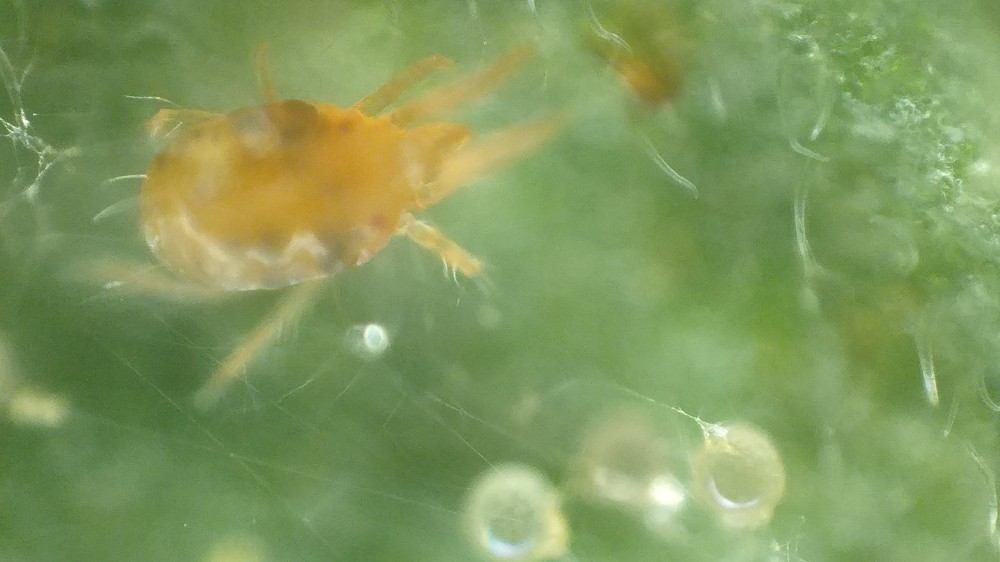Aracnido Rojo: (124, 37, 578, 356)
